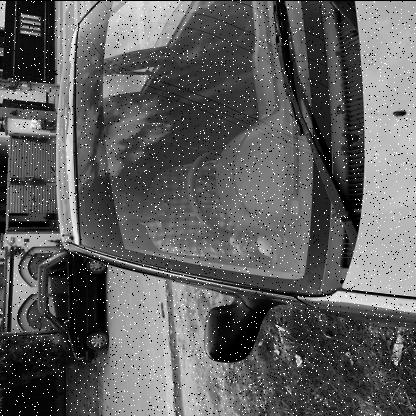no_seatbelt: (124, 164, 232, 256)
